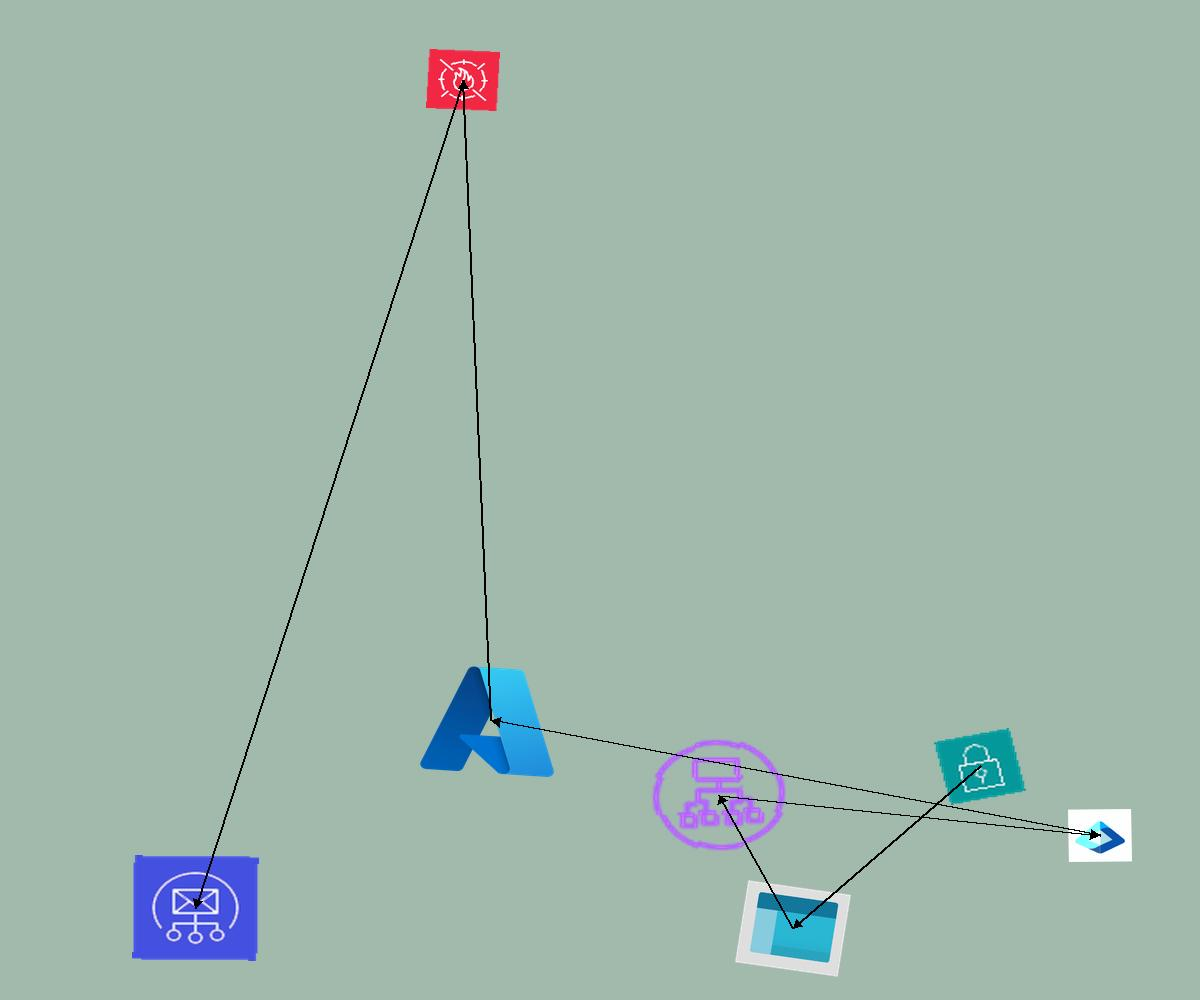AWS-Private-subnet: (934, 728, 1026, 805)
AWS-Res_Elastic-Load-Balancing_Application-Load-Balancer: (641, 730, 797, 860)
AWS-Simple-Email-Service: (132, 855, 259, 961)
AWS-WAF: (426, 49, 500, 111)
Azure_management-portal: (735, 880, 851, 977)
Azure_microsoft_entra: (1068, 809, 1132, 862)
Azure_services: (413, 655, 570, 786)
